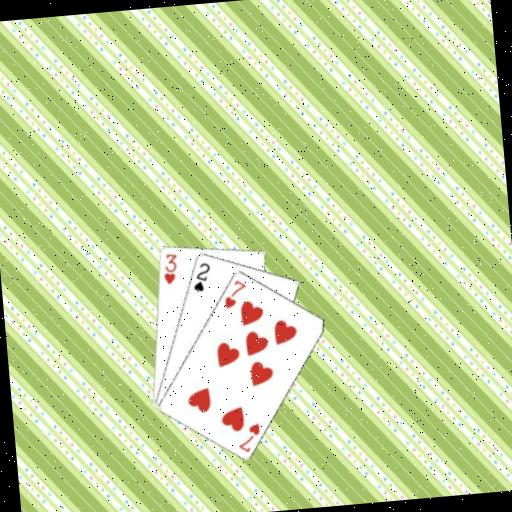2S: (188, 260, 214, 294)
3H: (159, 250, 181, 287)
7H: (233, 419, 263, 455), (219, 276, 249, 311)
